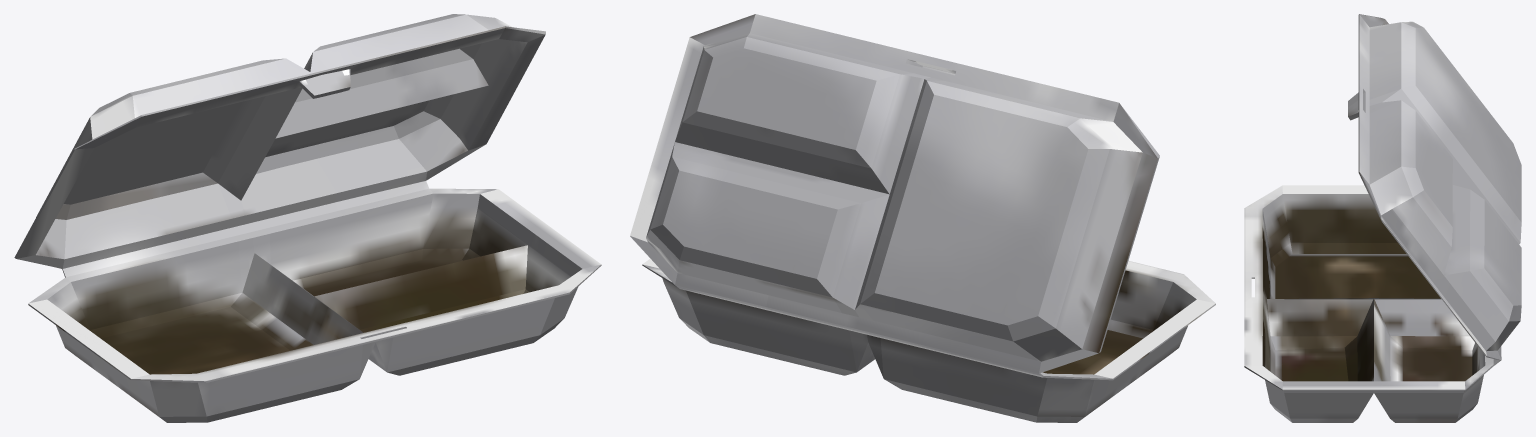
File: foodcontainer-dirty.gltf
3 renders of one model, left to right at view 1: azimuth 30°, elevation 25°; view 2: azimuth 150°, elevation 25°; view 3: azimuth 270°, elevation 25°, orthographic. The views are drawn at different scales.
Parts seen in each view (by area): view 1: Cube; view 2: Cube; view 3: Cube.
Part boxes in pixels (x1,y1,x2,y2): Cube: (14, 14, 601, 422); Cube: (630, 14, 1215, 422); Cube: (1244, 14, 1521, 422).
Bounding box in the file's own units: 2.69 × 1.51 × 1.54.
Materials: 1 (1 with a texture image).
